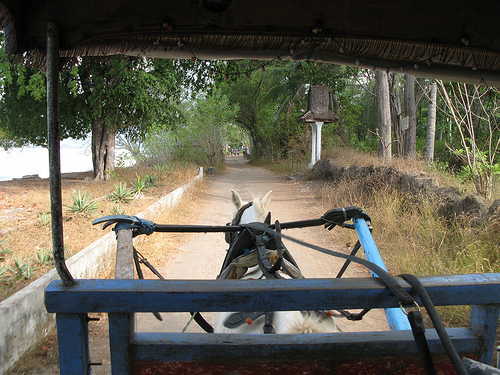horse: (210, 183, 340, 342)
